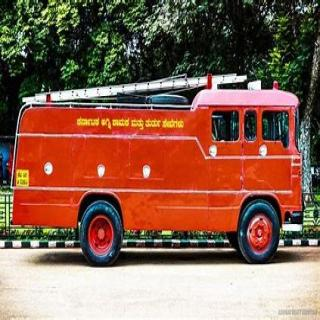Fire_truck: (3, 71, 309, 265)
